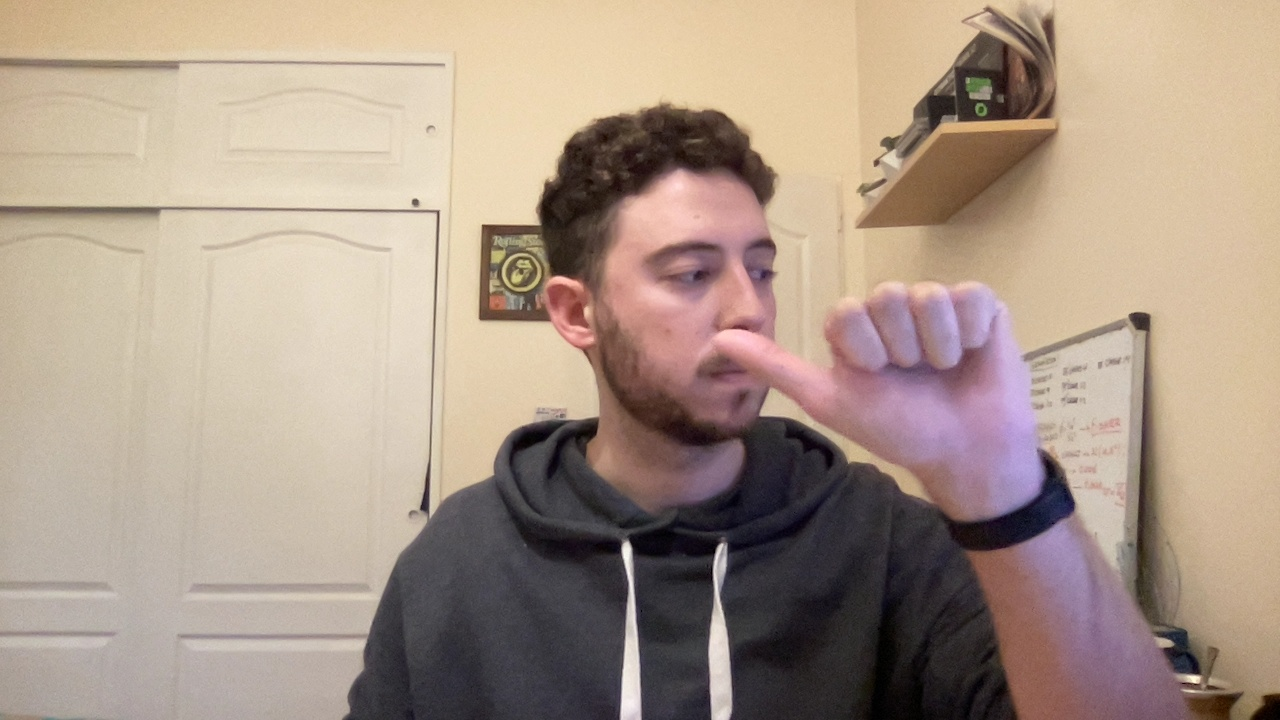pulgar: (693, 268, 1051, 501)
